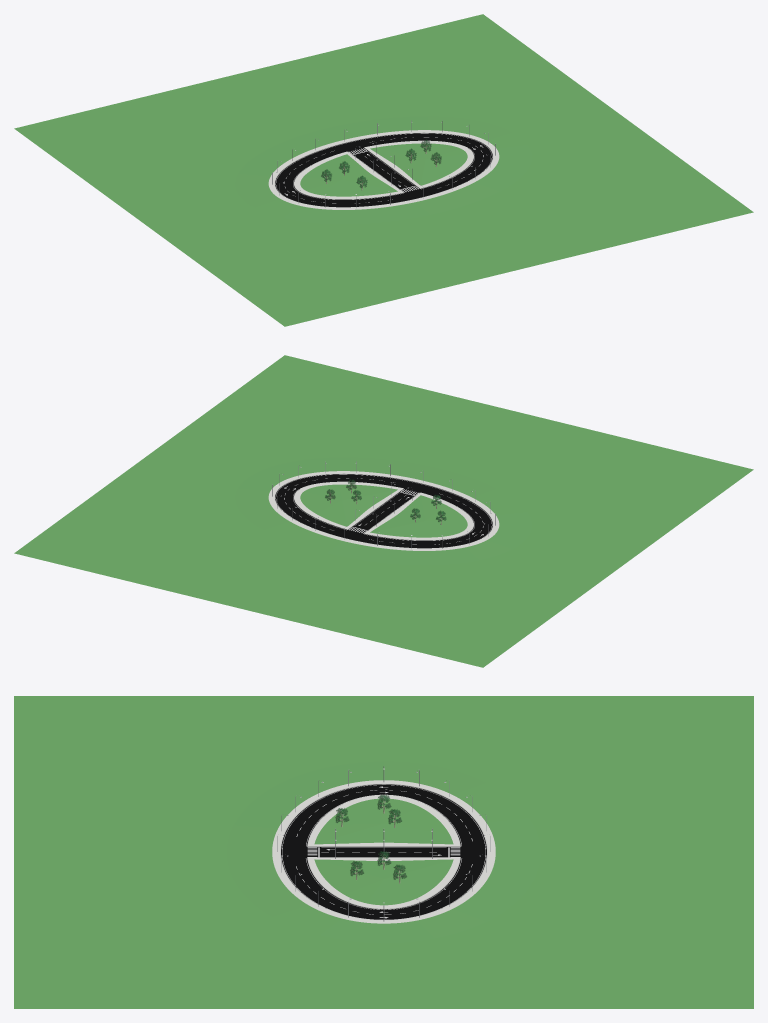
Rendered from GeminiTrack.glb.
The picture shows the model from 3 angles, top to bottom: view 1: azimuth 30°, elevation 25°; view 2: azimuth 150°, elevation 25°; view 3: azimuth 270°, elevation 25°; orthographic projection. The views are drawn at different scales.
Parts seen in each view (by area): view 1: Terrain_Ground, Outer_Curb_Sidewalk, Road_Asphalt, Island_Right, Island_Left; view 2: Terrain_Ground, Outer_Curb_Sidewalk, Road_Asphalt, Island_Left, Island_Right; view 3: Terrain_Ground, Outer_Curb_Sidewalk, Road_Asphalt, Island_Right, Island_Left.
Boxes of the visible parts, box(x1,y1,x2,y2) form: Terrain_Ground: box(14, 14, 753, 326); Outer_Curb_Sidewalk: box(235, 116, 532, 224); Road_Asphalt: box(275, 133, 492, 207); Island_Right: box(364, 140, 473, 188); Island_Left: box(294, 151, 403, 199); Terrain_Ground: box(14, 355, 753, 667); Outer_Curb_Sidewalk: box(235, 457, 532, 565); Road_Asphalt: box(275, 474, 492, 548); Island_Left: box(364, 492, 473, 540); Island_Right: box(294, 481, 403, 529); Terrain_Ground: box(14, 696, 753, 1008); Outer_Curb_Sidewalk: box(227, 761, 540, 943); Road_Asphalt: box(281, 784, 486, 919); Island_Right: box(307, 857, 460, 909); Island_Left: box(307, 794, 460, 846).
Bounding box in the file's own units: 230 × 7.24 × 230.
Materials: 38 (30 with a texture image).
